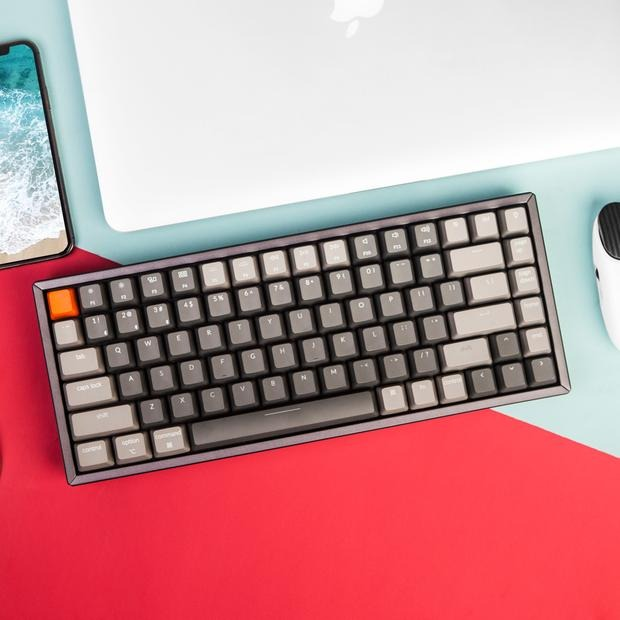keyboard: (37, 184, 574, 499)
